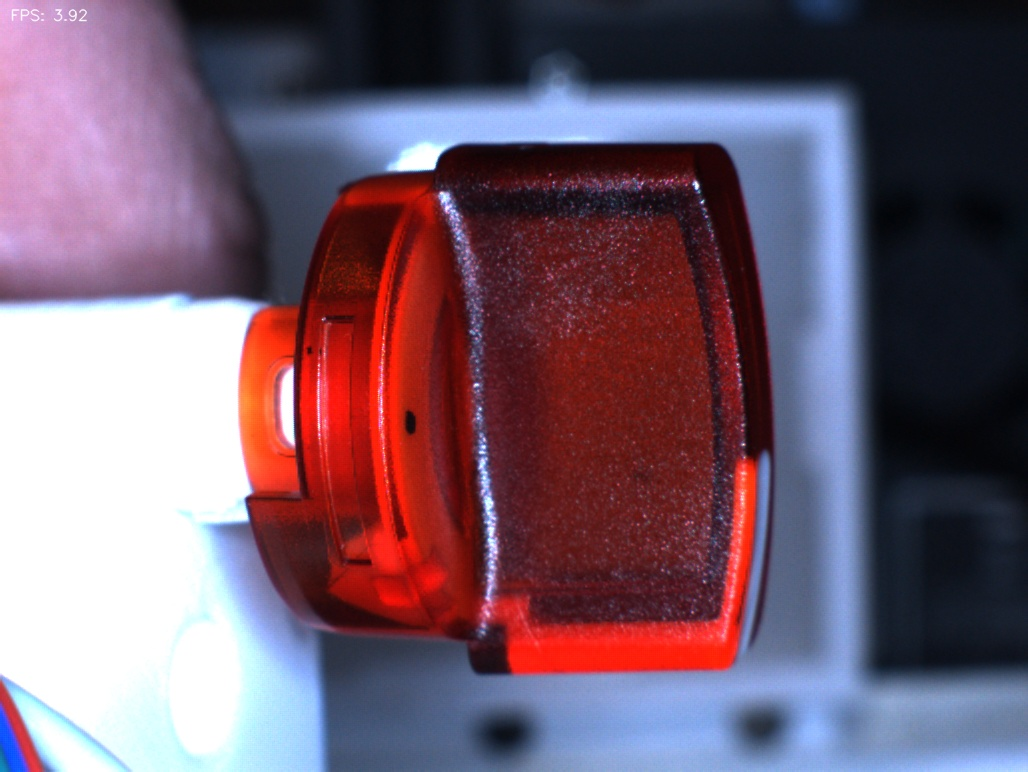PointNoir: (374, 367, 442, 458)
